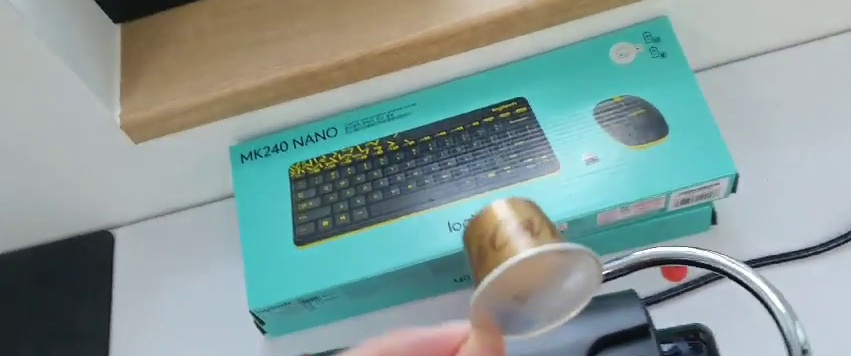capsule_9: (457, 196, 608, 340)
